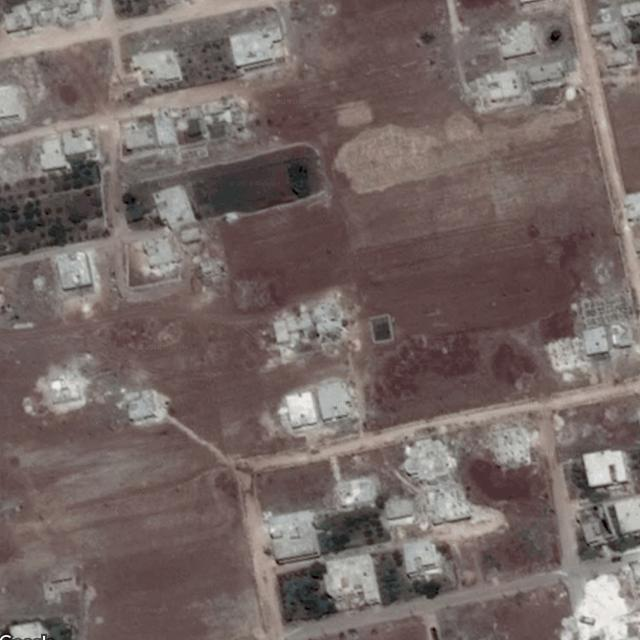damaged_building: (274, 297, 359, 359), (34, 358, 92, 412), (498, 22, 536, 60)
